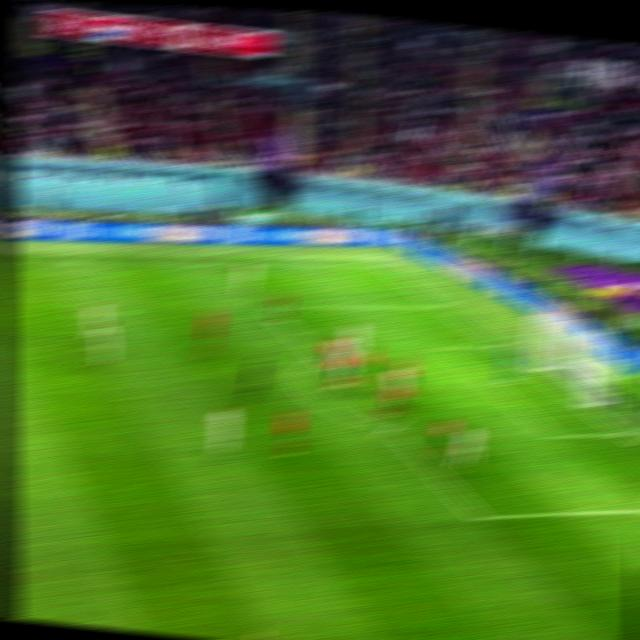bigarea_bottom_inner: (464, 503, 493, 528)
bigarea_top_inner: (254, 296, 280, 316)
bigarea_top_outter: (427, 296, 453, 314)
bottom_arc_area_intersection: (375, 417, 404, 438)
corner: (368, 257, 395, 272)
smallarea_bottom_inner: (539, 422, 567, 446)
smallarea_bottom_outter: (610, 423, 636, 442)
smallarea_top_inner: (427, 337, 453, 356)
smallarea_top_outter: (485, 336, 511, 354)
top_arc_area_intersection: (303, 346, 330, 364)
